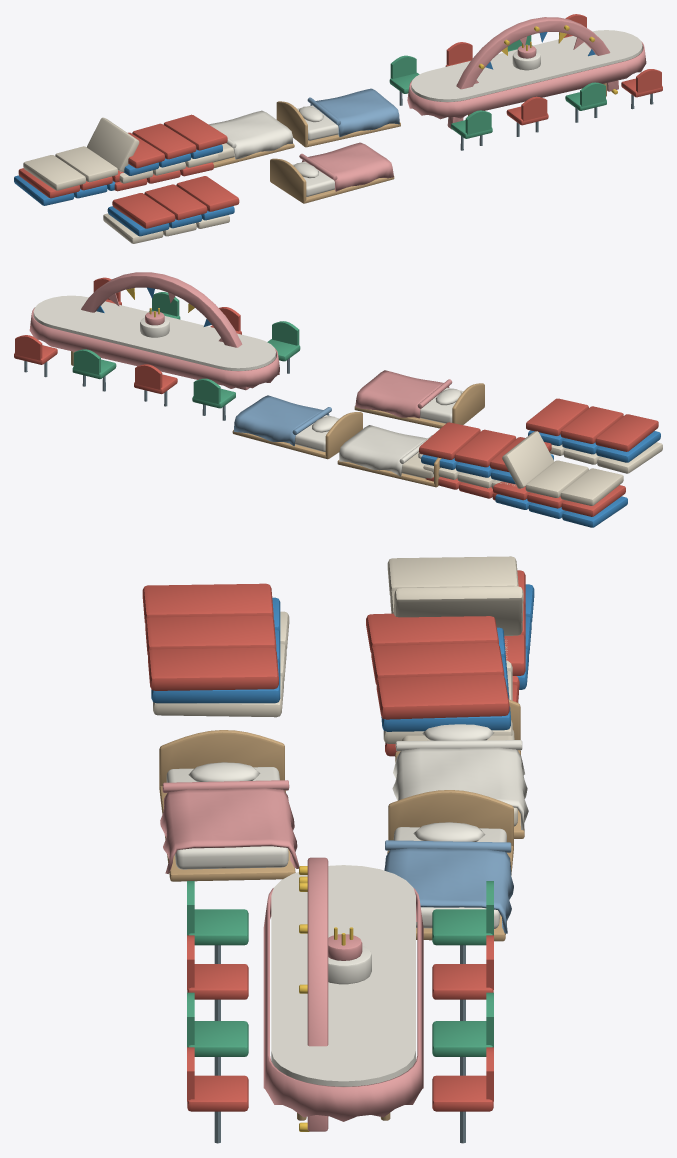
The model's file is playroom-quiet-rooms-pack.glb.
3 renders of one model, top to bottom at view 1: azimuth 30°, elevation 25°; view 2: azimuth 150°, elevation 25°; view 3: azimuth 270°, elevation 25°, orthographic. The views are drawn at different scales.
Parts seen in each view (by area): view 1: Sun-faded red plastic.002, Warm white fabric, Faded coral fabric, Clean aged cream vinyl.002, Pale sealed wood.001, Faded blue plastic.002, Soft green plastic.002, Faded blue fabric, Painted maintenance steel.001; view 2: Warm white fabric, Sun-faded red plastic.002, Faded coral fabric, Clean aged cream vinyl.002, Faded blue plastic.002, Pale sealed wood.001, Soft green plastic.002, Faded blue fabric, Painted maintenance steel.001; view 3: Warm white fabric, Sun-faded red plastic.002, Faded coral fabric, Clean aged cream vinyl.002, Pale sealed wood.001, Soft green plastic.002, Faded blue fabric, Faded blue plastic.002, Painted maintenance steel.001.
Part boxes in pixels (x1,y1,x2,y2): Sun-faded red plastic.002: [18, 14, 662, 228]; Warm white fabric: [203, 30, 642, 196]; Faded coral fabric: [299, 17, 646, 191]; Clean aged cream vinyl.002: [23, 117, 234, 243]; Pale sealed wood.001: [213, 83, 606, 203]; Faded blue plastic.002: [14, 32, 595, 236]; Soft green plastic.002: [389, 35, 606, 138]; Faded blue fabric: [307, 88, 399, 137]; Painted maintenance steel.001: [399, 91, 653, 150]; Warm white fabric: [33, 295, 463, 476]; Sun-faded red plastic.002: [14, 277, 658, 516]; Faded coral fabric: [29, 272, 452, 418]; Clean aged cream vinyl.002: [401, 431, 662, 505]; Faded blue plastic.002: [96, 287, 660, 527]; Pale sealed wood.001: [71, 351, 484, 487]; Soft green plastic.002: [72, 292, 300, 408]; Faded blue fabric: [233, 395, 331, 446]; Painted maintenance steel.001: [24, 358, 289, 420]; Warm white fabric: [166, 724, 528, 1086]; Sun-faded red plastic.002: [142, 570, 525, 1111]; Faded coral fabric: [160, 780, 423, 1131]; Clean aged cream vinyl.002: [153, 556, 523, 826]; Pale sealed wood.001: [159, 699, 524, 1120]; Soft green plastic.002: [187, 881, 493, 1056]; Faded blue fabric: [384, 840, 513, 933]; Faded blue plastic.002: [151, 584, 534, 731]; Painted maintenance steel.001: [214, 945, 465, 1143].
Size of the model in its own units: 20.85 by 3.07 by 6.07.
